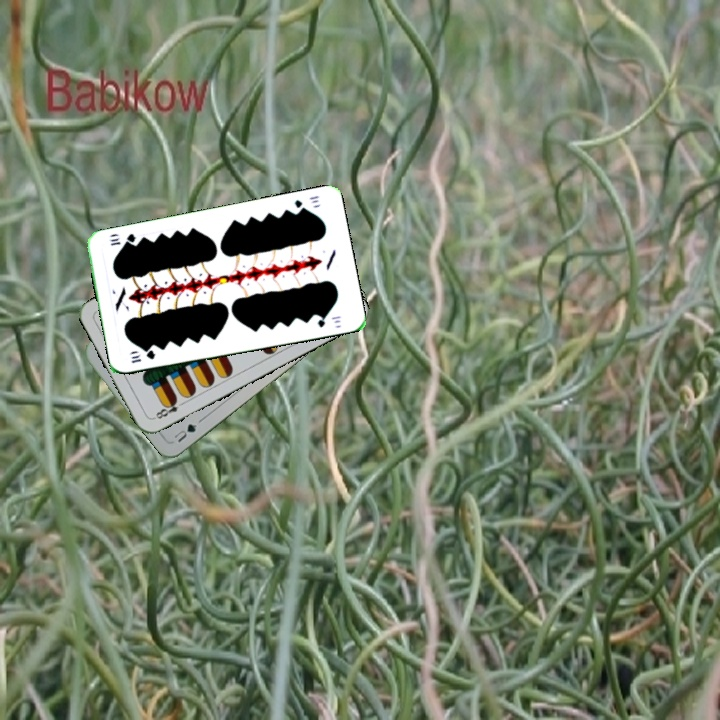E8: (149, 395, 187, 422)
G10: (290, 192, 322, 214), (126, 346, 158, 366)
GU: (169, 420, 200, 445)
